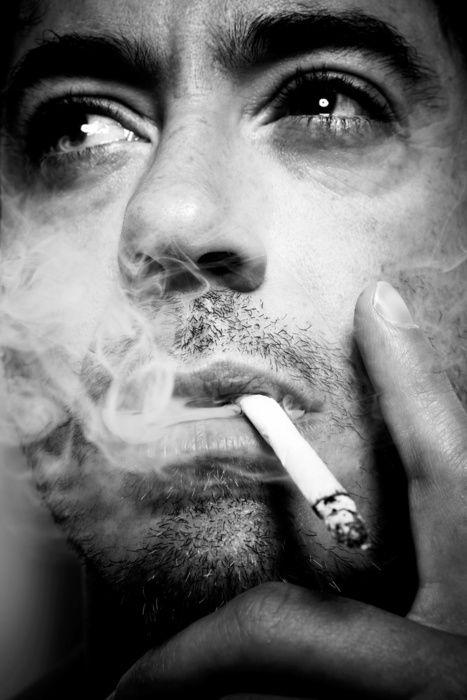cigarette: (235, 395, 365, 547)
